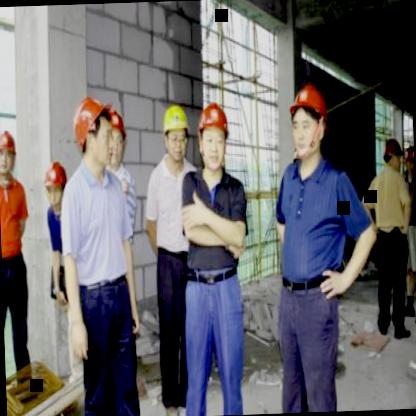helmet: (74, 93, 123, 172), (285, 82, 329, 164), (195, 101, 232, 171), (94, 103, 127, 166), (160, 102, 192, 164), (42, 158, 68, 212), (380, 134, 404, 182), (0, 125, 19, 179), (403, 141, 415, 173)
